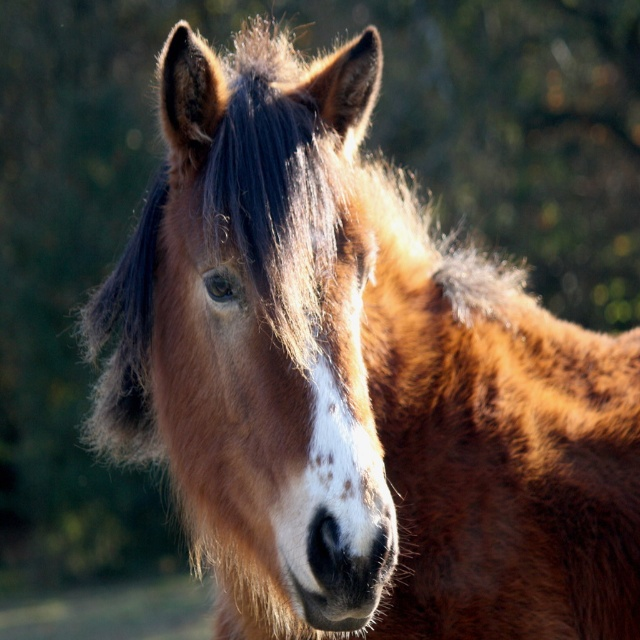Horse: (77, 0, 640, 639)
